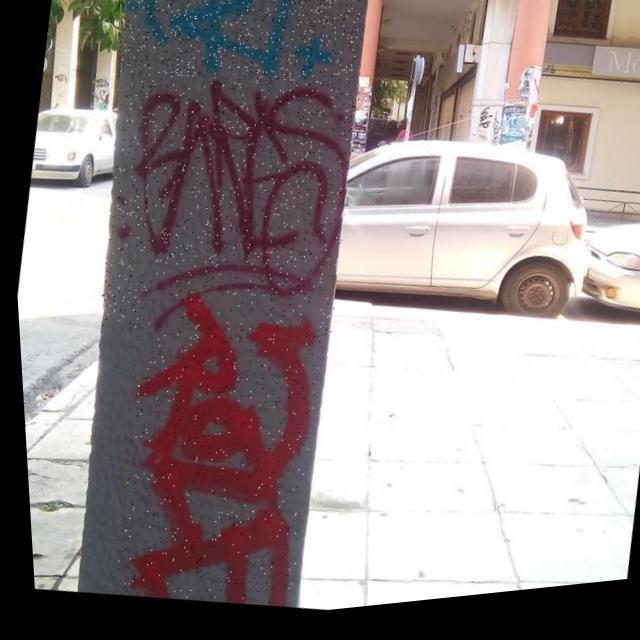-: (82, 56, 370, 368), (93, 277, 335, 627), (114, 0, 371, 114)
